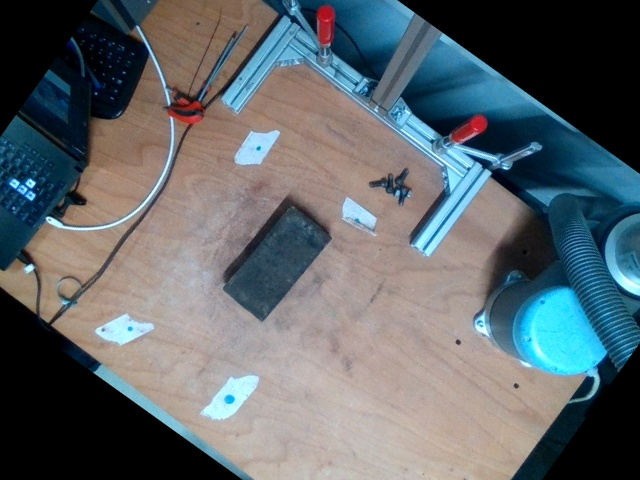brick: (222, 205, 331, 321)
